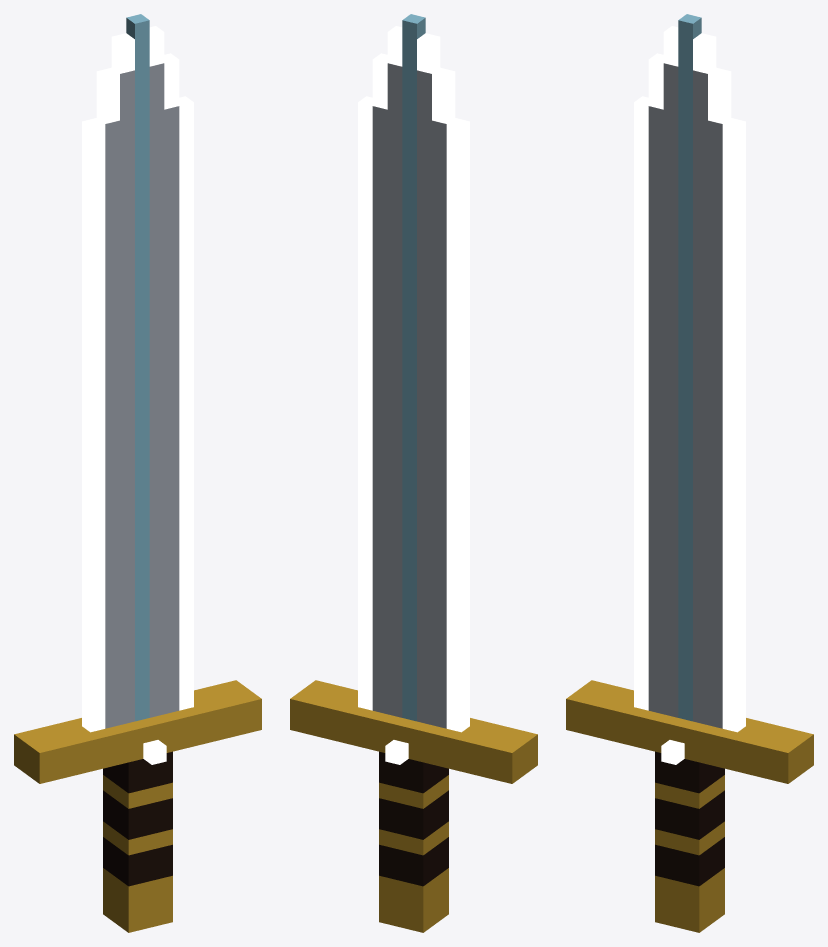
Rendered from saltglass_longsword.glb.
3 renders of one model, left to right at view 1: azimuth 30°, elevation 25°; view 2: azimuth 150°, elevation 25°; view 3: azimuth 330°, elevation 25°, orthographic.
Visible parts, largest first — view 1: saltglass_longsword; view 2: saltglass_longsword; view 3: saltglass_longsword.
Boxes of the visible parts, x1,y1,x2,y2 form: saltglass_longsword: [14, 14, 261, 932]; saltglass_longsword: [290, 14, 537, 932]; saltglass_longsword: [566, 14, 813, 932].
Bounding box in the file's own units: 0.225 × 0.87 × 0.075.
